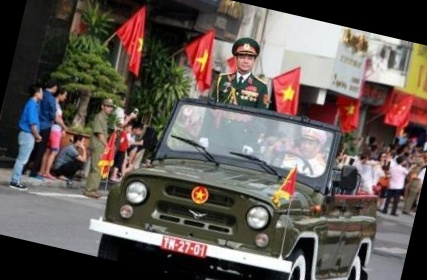plate: (161, 233, 208, 262)
